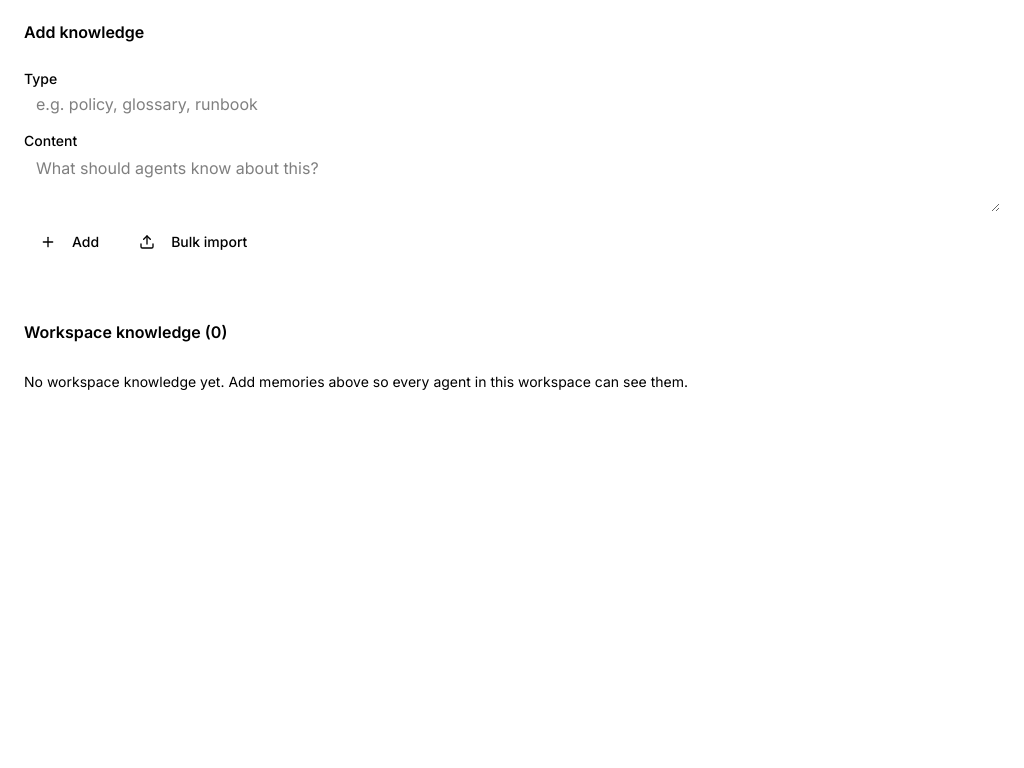
Test: InstitutionalKnowledgePanel › rejects empty bulk-import input
Click the button with test id "bulk-import-open" at (193, 242), box [123,224,263,260]
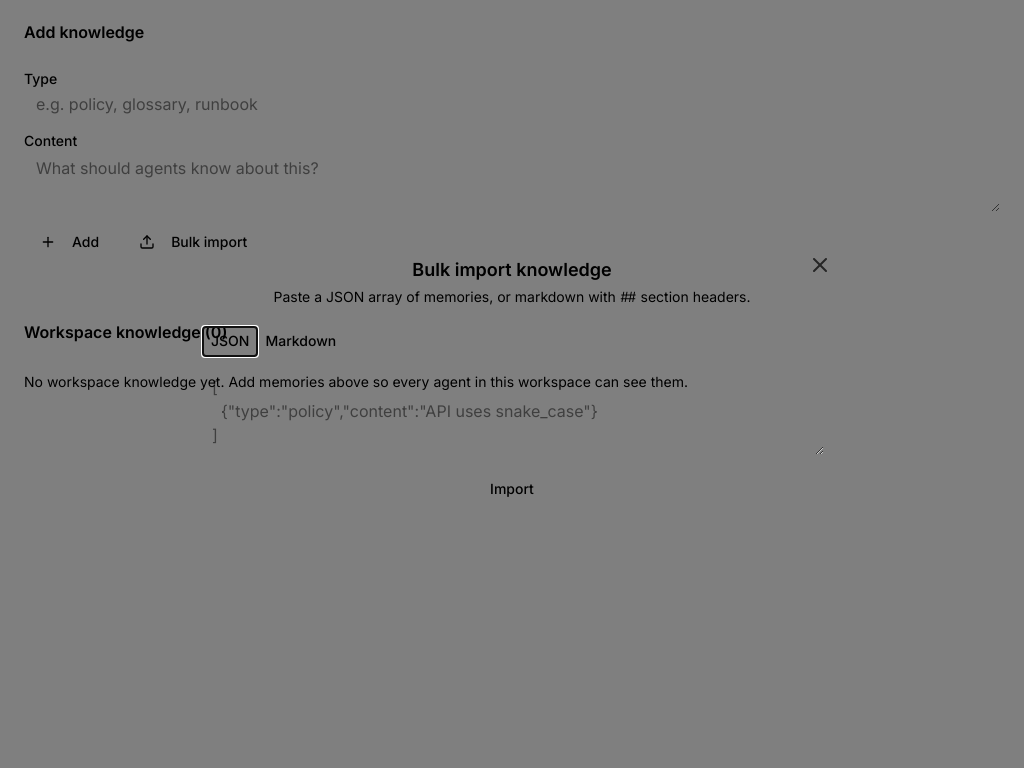
Now the button with test id "bulk-import-submit" is disabled, box [200,471,824,507]
